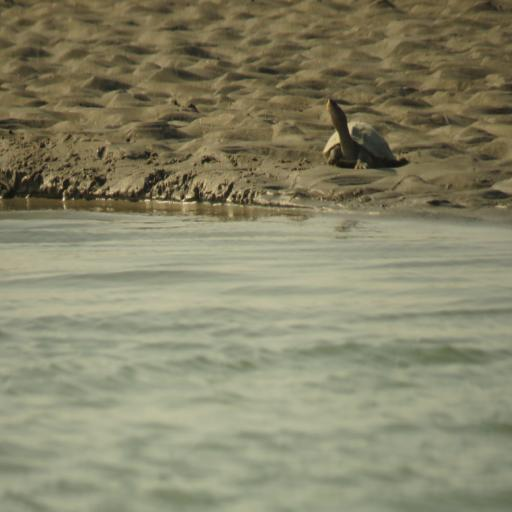turtle: (314, 88, 404, 180)
